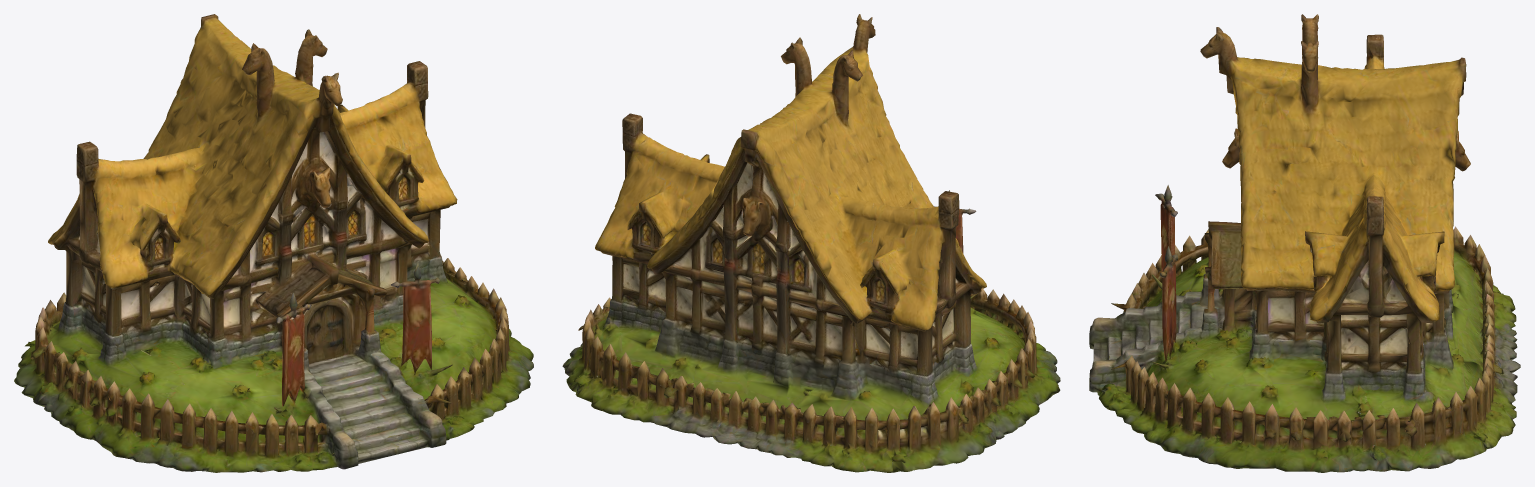
Rendered from edoras-hall.glb.
3 renders of one model, left to right at view 1: azimuth 30°, elevation 25°; view 2: azimuth 150°, elevation 25°; view 3: azimuth 270°, elevation 25°, orthographic. The views are drawn at different scales.
Size of the model in its own units: 1.91 by 1.42 by 1.64.
1 material, 1 textured.
